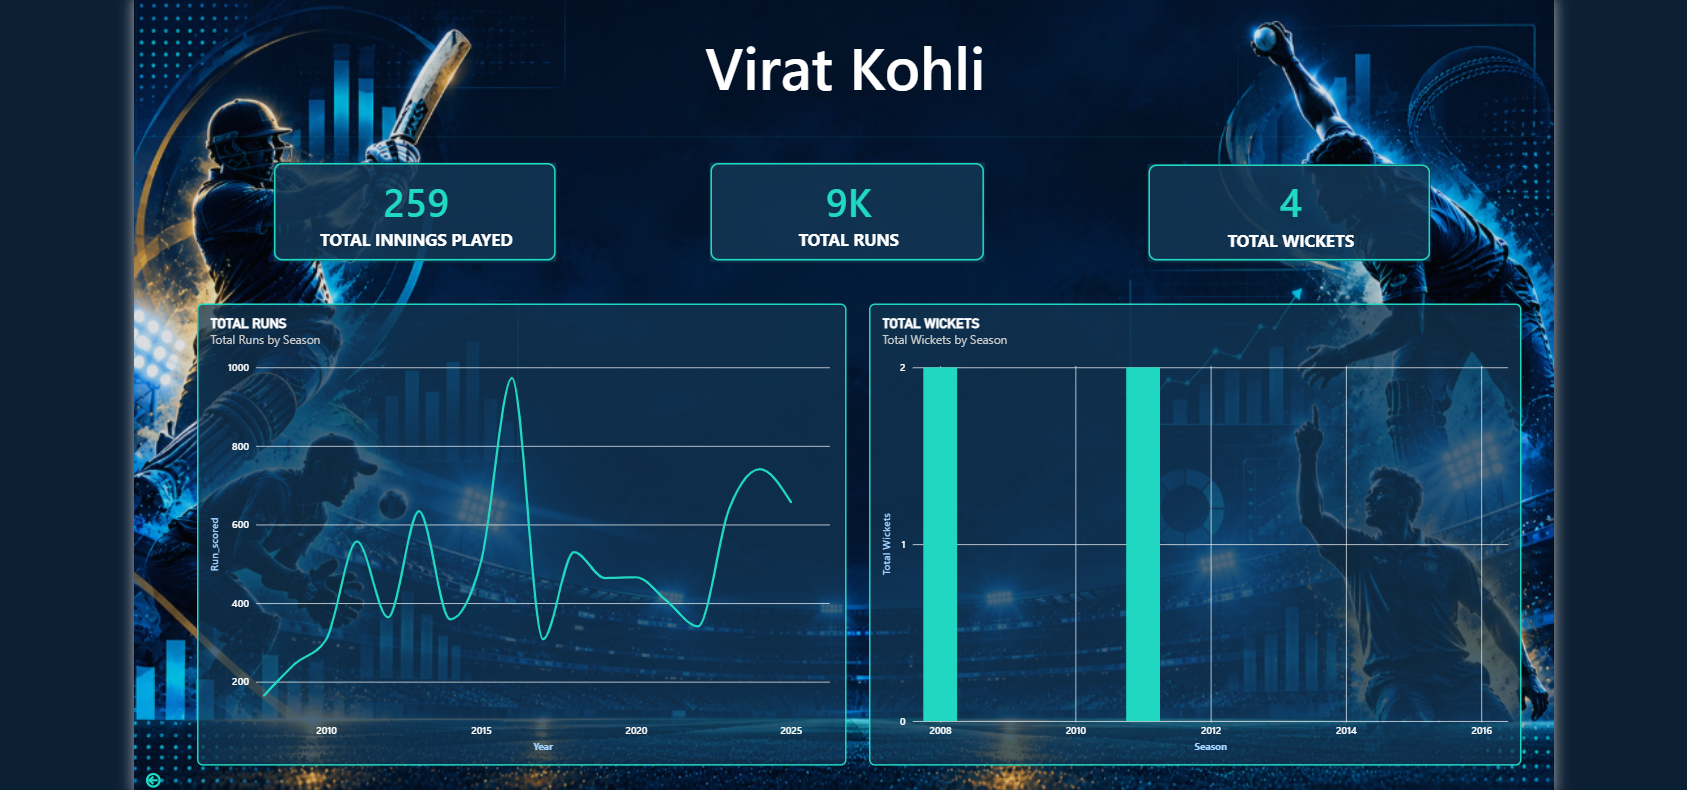

The dashboard page shown, as its layout file describes it:
{"tool":"powerbi","page":{"name":"DrillThrough","canvas":[1920,1080],"ordinal":3},"visuals":[{"type":"actionButton","box":[4.4,1040,44.4,40],"z":0},{"type":"lineChart","title":"TOTAL RUNS","fields":{"Category":["DimSeason.Season"],"Y":["Sum(ipl_batting_career_progression.runs_scored)"]},"box":[84.4,415.6,877.8,624.4],"z":1000},{"type":"clusteredColumnChart","title":"TOTAL WICKETS","fields":{"Category":["DimSeason.Season"],"Y":["ipl_bowling_career_progression.Total Wickets"]},"box":[993.3,415.6,882.2,624.4],"z":2000},{"type":"cardVisual","fields":{"Data":["DimPlayer.Selected Player"]},"box":[4.4,0,1915.6,188.9],"z":3000},{"type":"cardVisual","fields":{"Data":["ipl_bowling_career_progression.Total Wickets"]},"box":[1371.1,226.7,382.2,131.1],"z":4000},{"type":"cardVisual","fields":{"Data":["Sum(ipl_batting_career_progression.runs_scored)"]},"box":[777.8,224.4,371.1,133.3],"z":5000},{"type":"cardVisual","fields":{"Data":["Sum(ipl_batting_career_progression.innings)"]},"box":[188.9,224.4,382.2,133.3],"z":6000}]}

Visuals, with their boxes on the page's 1920x1080 design canvas (x1, y1, x2, y2). These are canvas units, not pixel positions in the 1687x790 screenshot, which may show the page scaled, cropped or inside an application window:
actionButton: locate(4, 1040, 49, 1080)
"TOTAL RUNS" lineChart: locate(84, 416, 962, 1040)
"TOTAL WICKETS" clusteredColumnChart: locate(993, 416, 1876, 1040)
cardVisual - DimPlayer.Selected Player: locate(4, 0, 1920, 189)
cardVisual - ipl_bowling_career_progression.Total Wickets: locate(1371, 227, 1753, 358)
cardVisual - Sum(ipl_batting_career_progression.runs_scored): locate(778, 224, 1149, 358)
cardVisual - Sum(ipl_batting_career_progression.innings): locate(189, 224, 571, 358)
